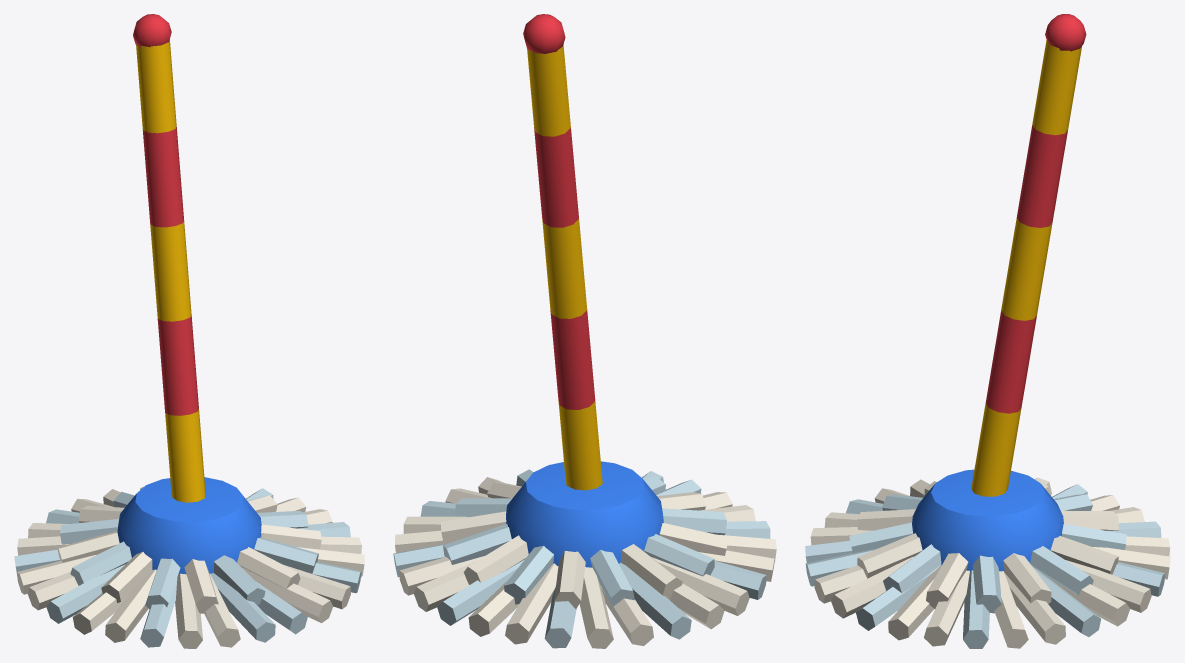
File: mop.glb
3 views of the same model, side by side, from view 1: azimuth 30°, elevation 25°; view 2: azimuth 150°, elevation 25°; view 3: azimuth 270°, elevation 25° (orthographic). The views are drawn at different scales.
Parts seen in each view (by area): view 1: body; view 2: body; view 3: body.
Part boxes in pixels (x1,y1,x2,y2): body: (14,14,364,648); body: (393,14,776,648); body: (805,14,1170,648).
Bounding box in the file's own units: 28.21 × 47.59 × 28.22.
